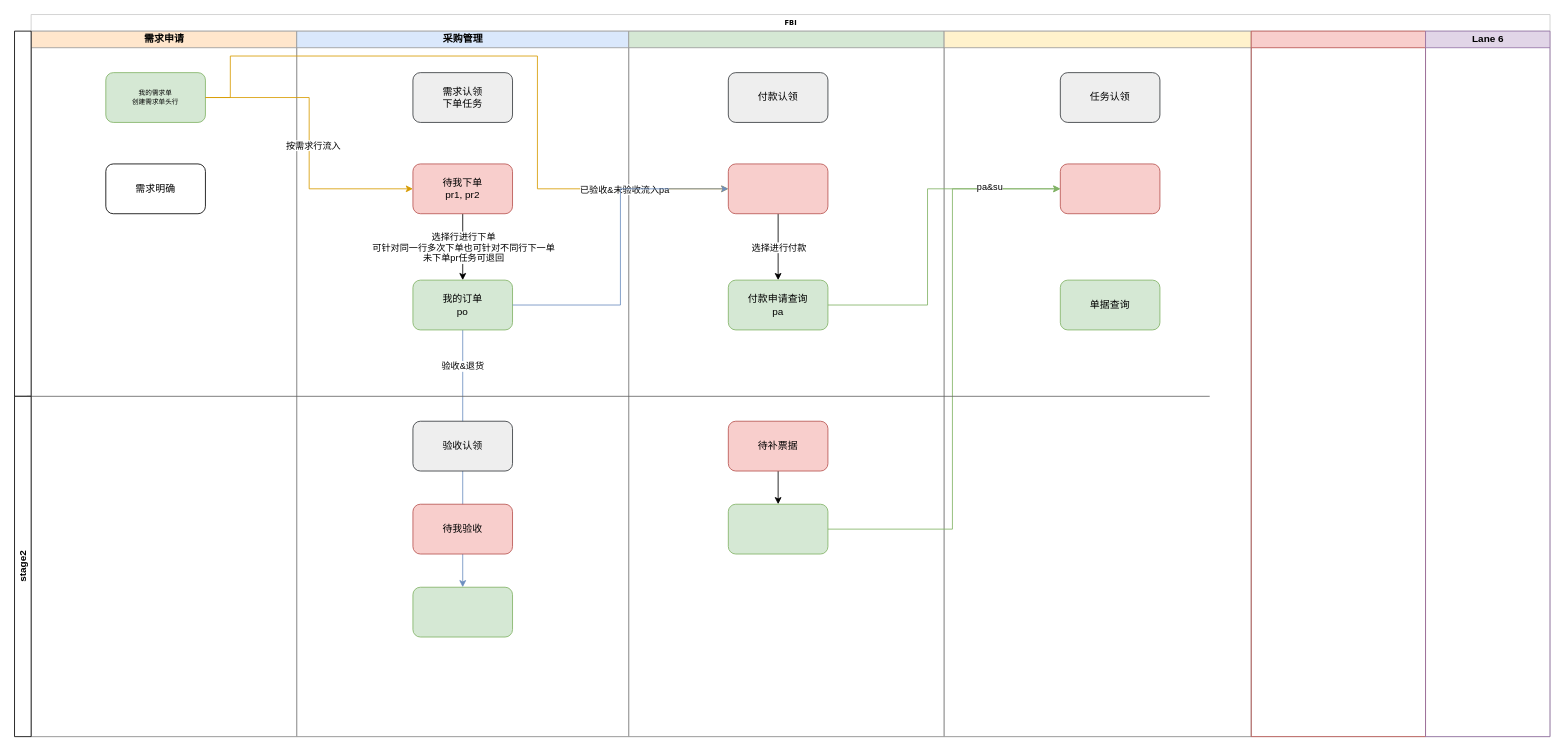
The diagram is 1565 pixels wide and 751 high, and some of its shapes have lost their labels. Each missing label, with the box of its shape:
stage1: (14, 30, 31, 396)
付款中心: (628, 30, 944, 737)
付款申请 pr1, po(grn&rtn): (727, 163, 828, 214)
待我处理: (1059, 163, 1160, 214)
我的验收单: (412, 586, 513, 637)
补票查询: (727, 503, 828, 554)
财务共享: (943, 30, 1251, 737)
资金中心: (1250, 30, 1426, 737)
